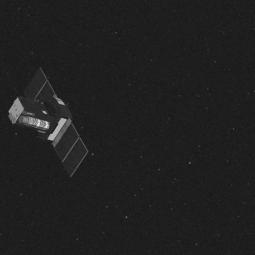soho: (6, 66, 90, 174)
